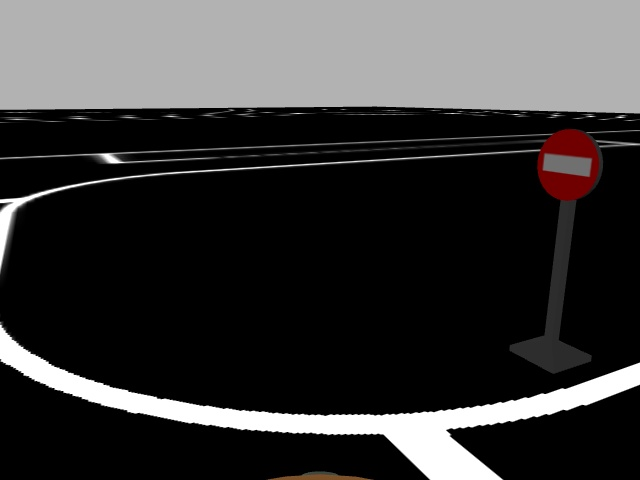prohibited: (533, 127, 604, 203)
